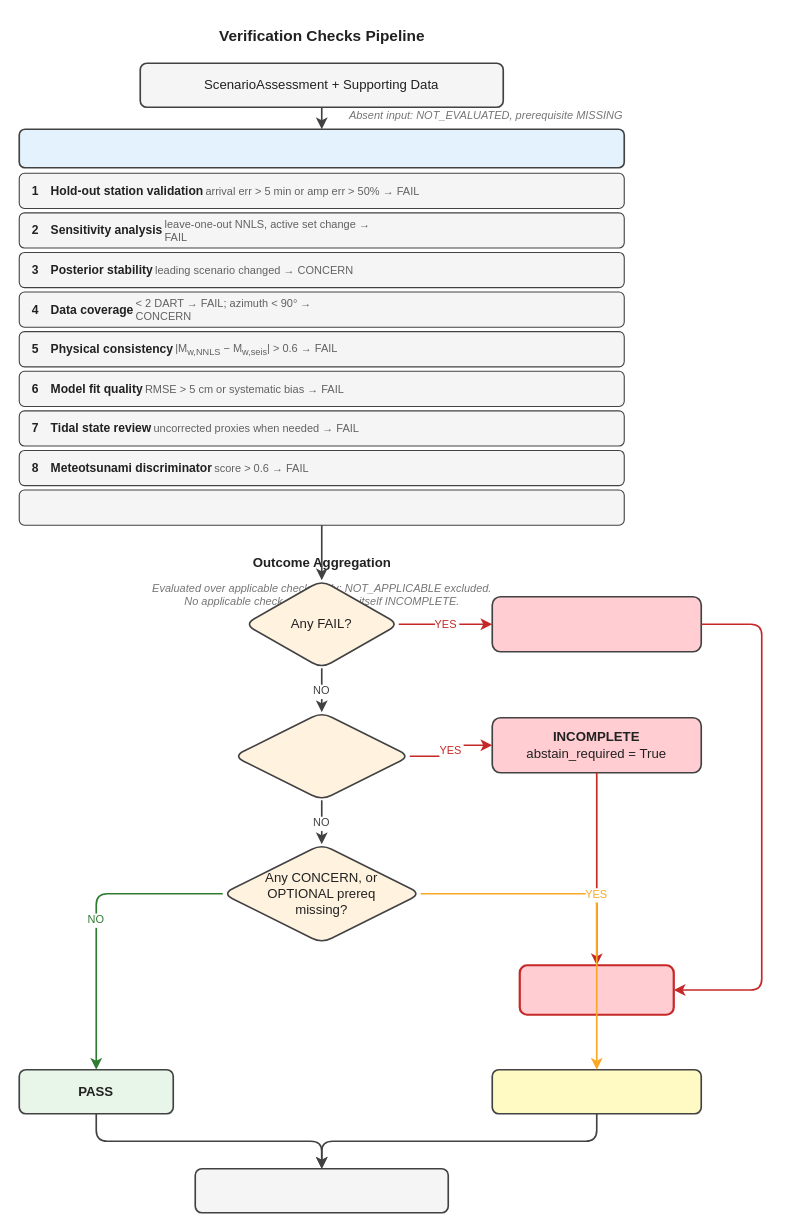
Some shapes in this 791 by 1232 pixel diagram are drawn without their labels. The box of each missing label's shape, as (x1, y1, x2, y2) in pixels:
9 Rayleigh wave suspect timing match → CONCERN only (never FAIL): (18, 489, 624, 525)
9 Verification Checks (fixed order): (18, 128, 625, 168)
ABSTAIN (mandatory): (518, 964, 674, 1015)
FAIL abstain_required = True: (491, 595, 702, 652)
PASS_WITH_CONCERNS: (491, 1068, 702, 1114)
Required check prereq MISSING?: (232, 711, 410, 801)
VerificationResult: (194, 1167, 449, 1213)
